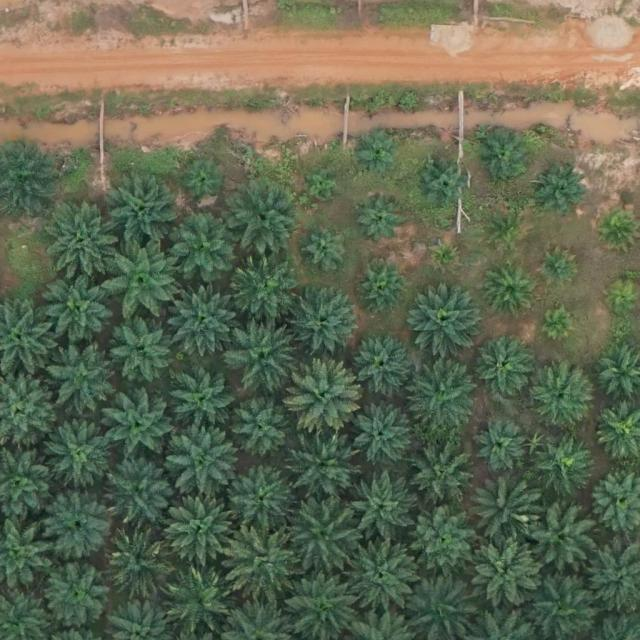Healthy: (524, 504, 595, 575), (410, 283, 481, 354), (342, 474, 413, 545), (350, 540, 421, 611), (106, 531, 176, 602), (285, 500, 355, 571), (226, 324, 296, 395), (230, 529, 301, 599), (168, 286, 238, 357), (170, 362, 240, 433), (165, 425, 235, 496), (167, 490, 237, 561), (110, 175, 180, 246), (108, 244, 178, 315), (41, 205, 111, 276), (50, 347, 120, 418), (47, 421, 117, 492), (44, 489, 114, 560), (165, 568, 235, 638), (406, 505, 476, 575), (411, 367, 481, 437), (288, 433, 358, 503), (292, 288, 362, 358), (232, 258, 302, 328), (227, 185, 297, 255), (225, 469, 295, 539), (168, 213, 238, 283), (109, 458, 179, 528), (106, 389, 176, 459), (45, 273, 115, 343), (350, 405, 413, 468), (529, 367, 591, 430), (473, 541, 535, 604), (353, 334, 415, 397), (112, 316, 175, 378), (46, 568, 108, 631), (531, 435, 593, 497), (473, 335, 535, 397), (409, 440, 471, 502), (232, 393, 294, 455), (477, 129, 532, 184), (414, 156, 469, 211), (474, 421, 529, 476), (356, 261, 411, 316), (483, 263, 537, 318)
Small: (537, 171, 584, 219), (356, 197, 403, 245), (357, 133, 396, 172), (183, 163, 222, 202), (307, 230, 346, 269), (309, 171, 340, 202)
Yellow: (286, 361, 357, 432), (473, 481, 535, 544), (489, 212, 528, 252), (600, 208, 639, 248), (606, 283, 637, 315), (545, 310, 576, 341), (542, 253, 573, 284), (432, 243, 455, 266)
